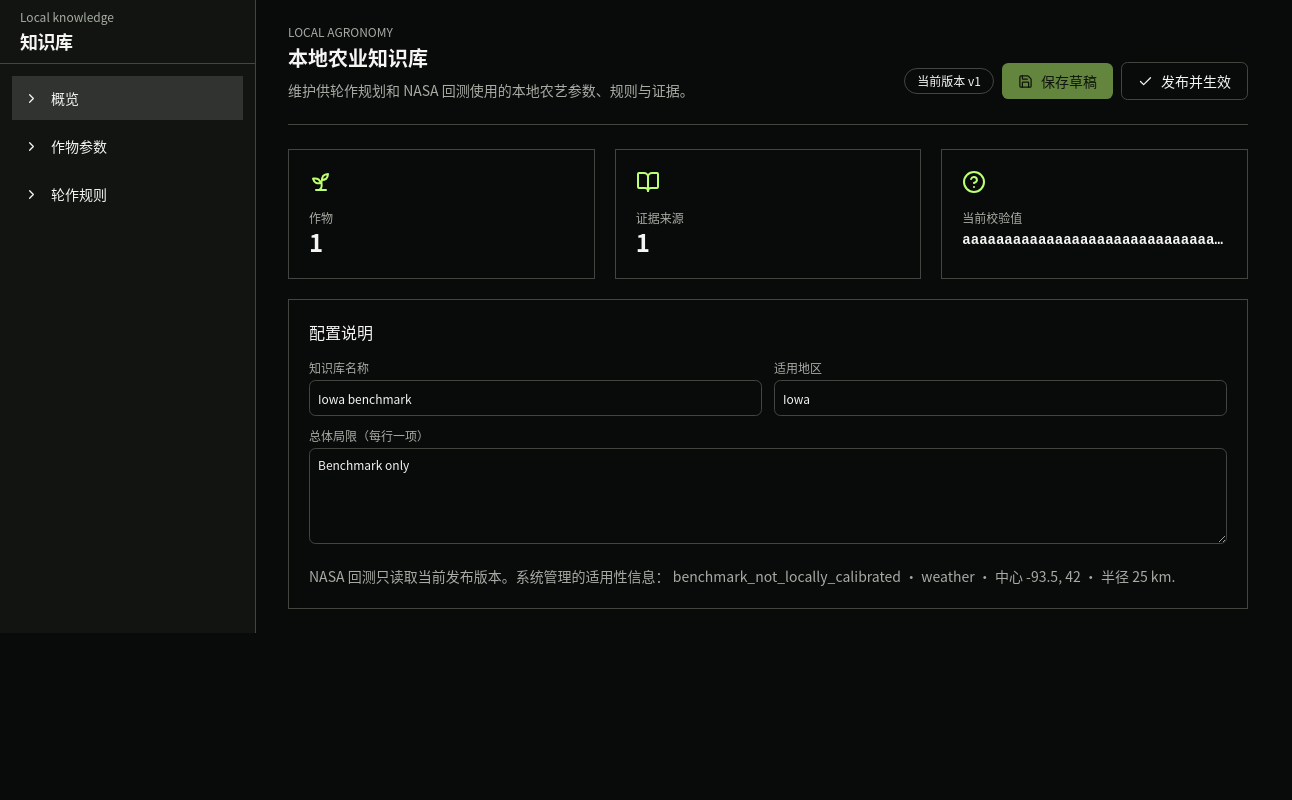
Test case: exposes crop and rule views
The width and height of the screenshot is (1292, 800).
Expected: the heading "本地农业知识库" is shown, [288,43,428,72]
Click the button "作物参数" at [128, 146], box [12,124,243,168]
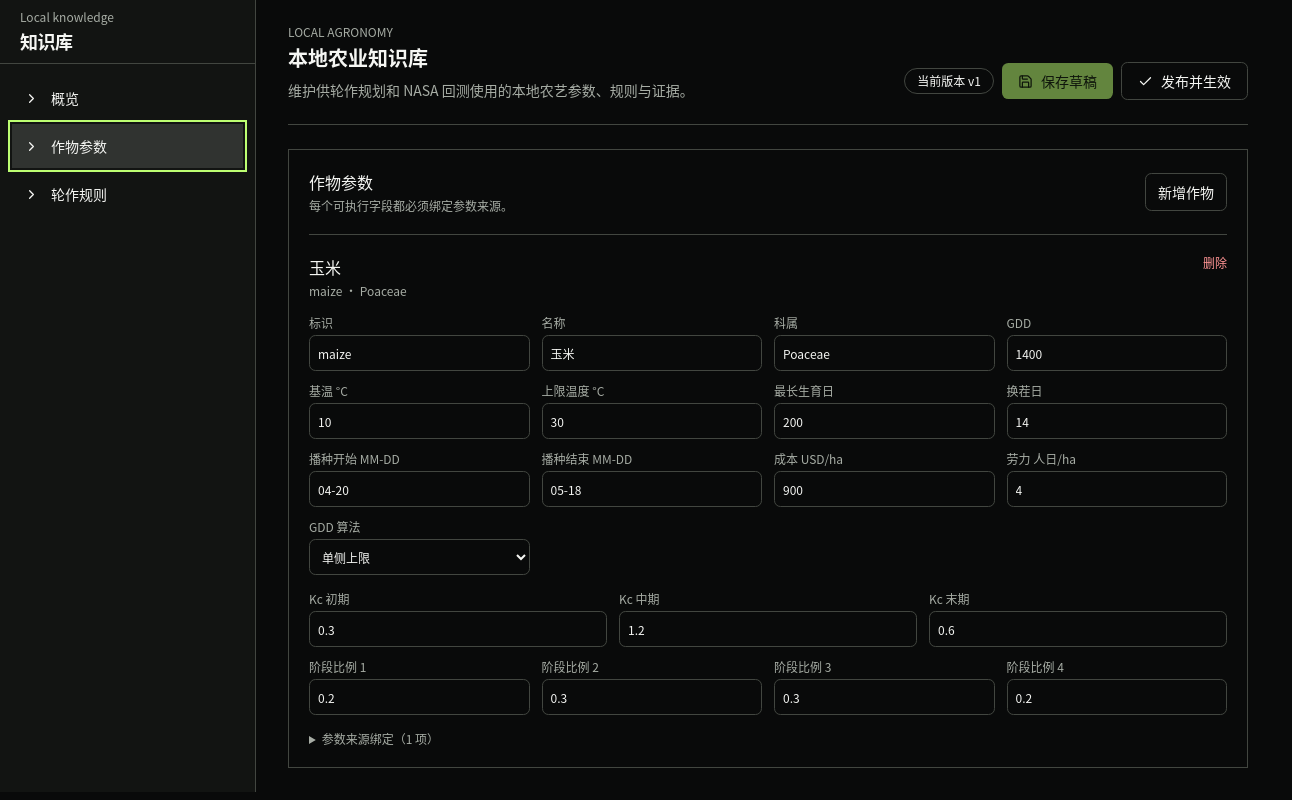
Expected: the field showing "玉米" is shown, [542,335,762,371]
